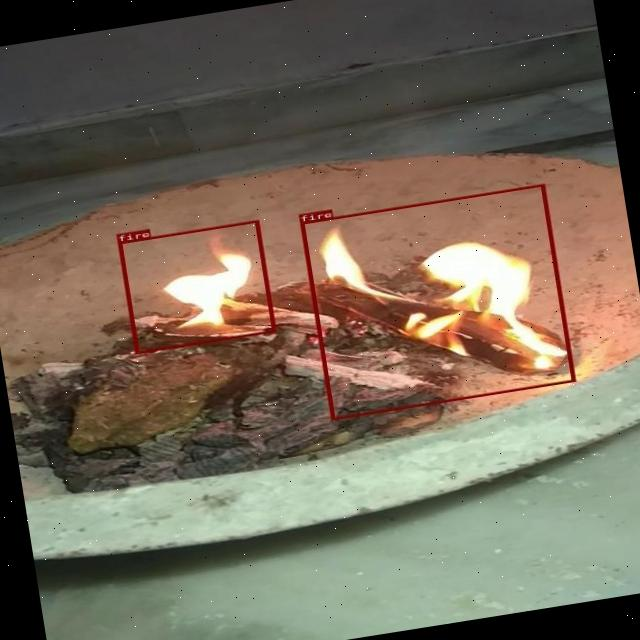fire: (300, 183, 574, 420), (117, 220, 275, 354)
